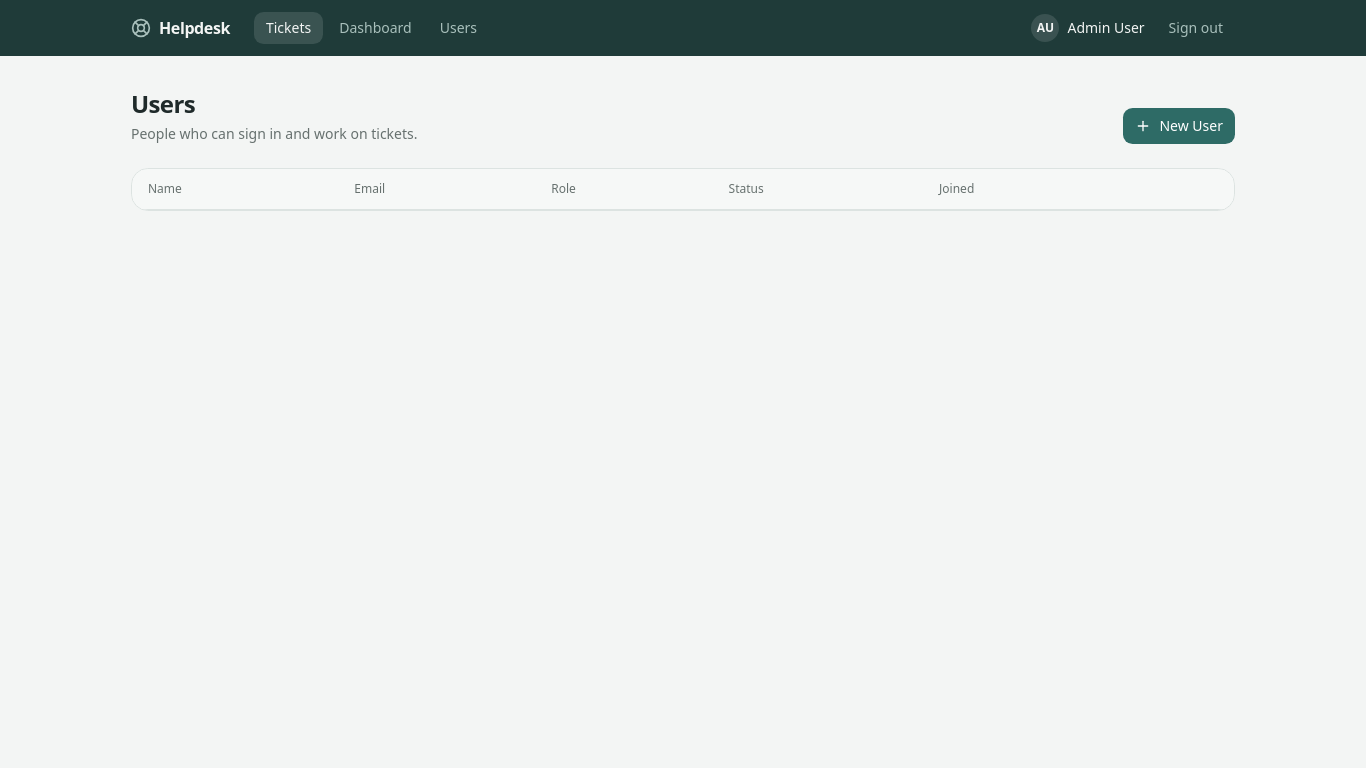
Test: user dialog wiring › opens the create dialog when the New User button is clicked
Expected: the heading "Create user" is not shown
Click the button "New User" at (1179, 126), box [1124,108,1235,144]
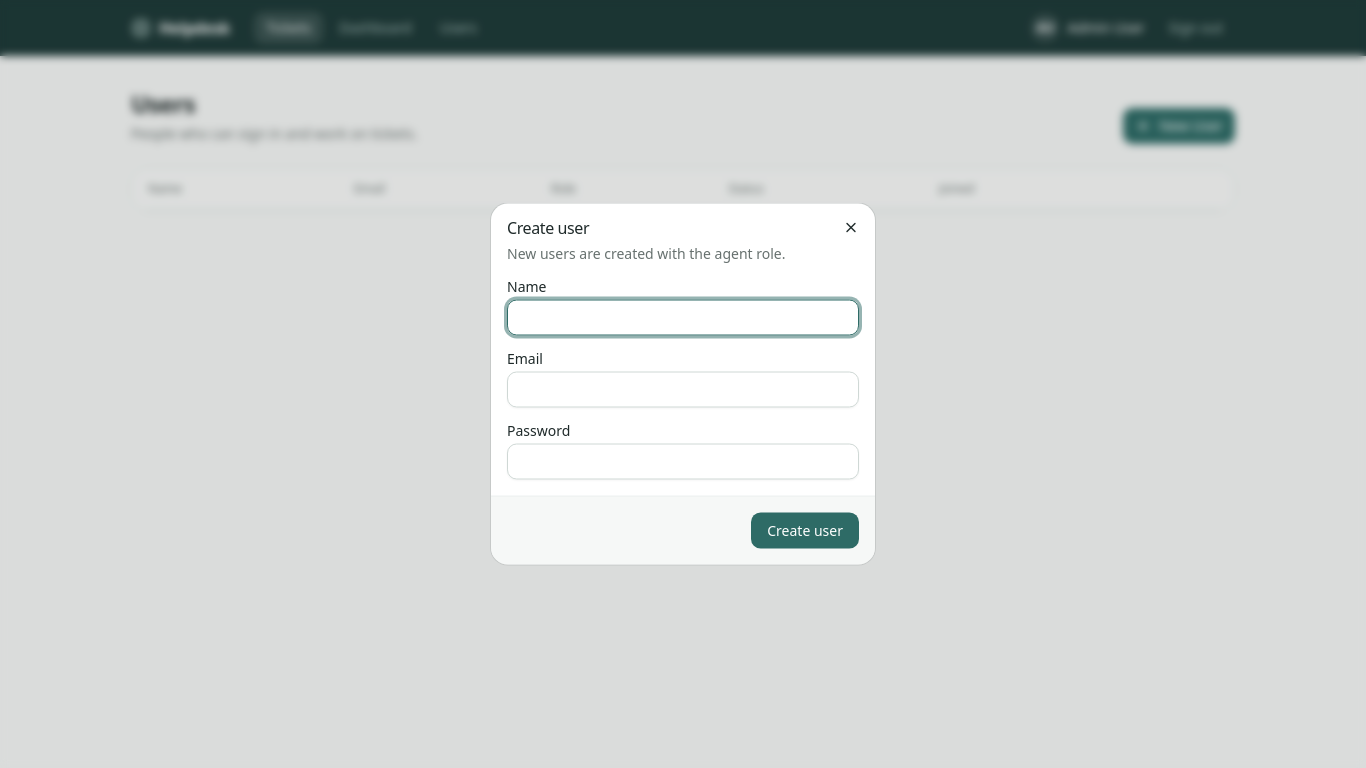
Expected: the field labelled "Name" is empty, [507,300,859,336]
Now the heading "Create user" is shown, box [507,216,589,238]
